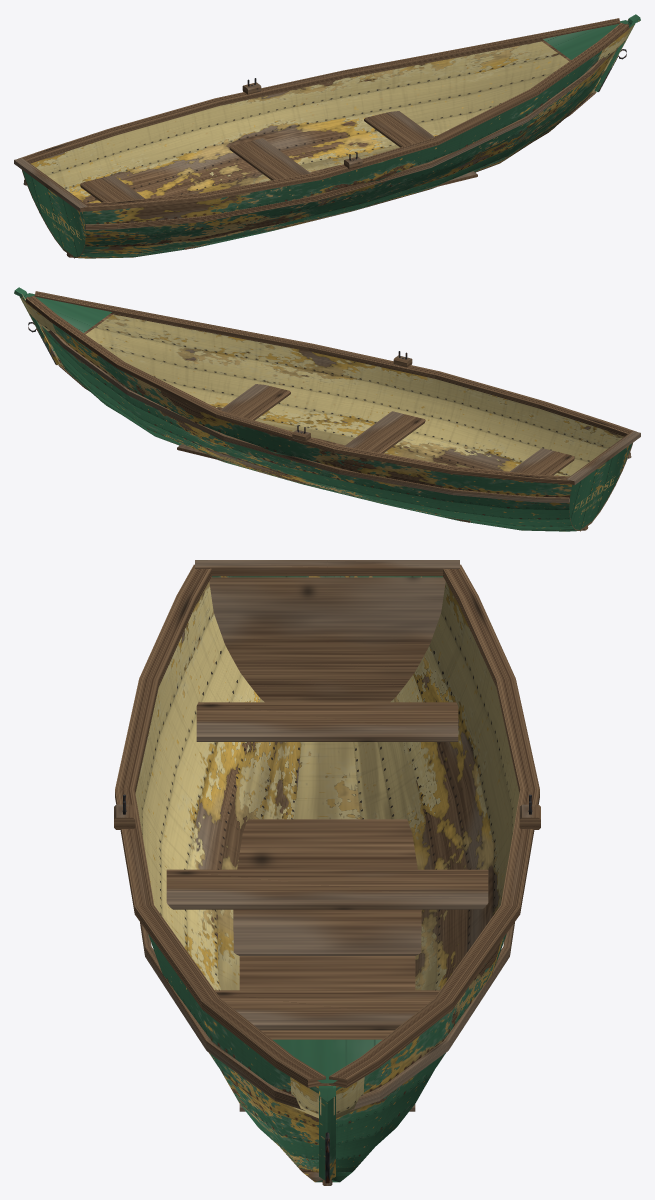
File: lakeboat_LOD1.dae
3 renders of one model, top to bottom at view 1: azimuth 30°, elevation 25°; view 2: azimuth 150°, elevation 25°; view 3: azimuth 270°, elevation 25°, orthographic. The views are drawn at different scales.
Visible parts, largest first — view 1: lakeboat; view 2: lakeboat; view 3: lakeboat.
Part boxes in pixels (x1,y1,x2,y2): lakeboat: (14, 14, 640, 258); lakeboat: (14, 287, 640, 531); lakeboat: (114, 560, 540, 1185).
Size of the model in its own units: 4.44 by 1.39 by 0.8313.
